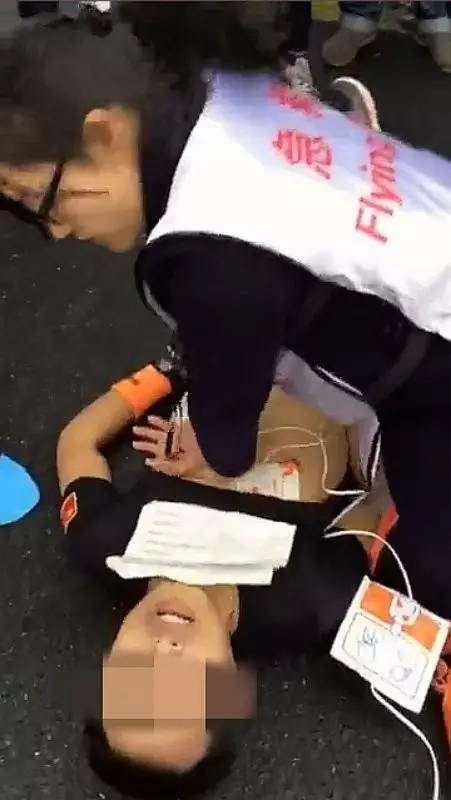falling: (44, 319, 408, 800)
